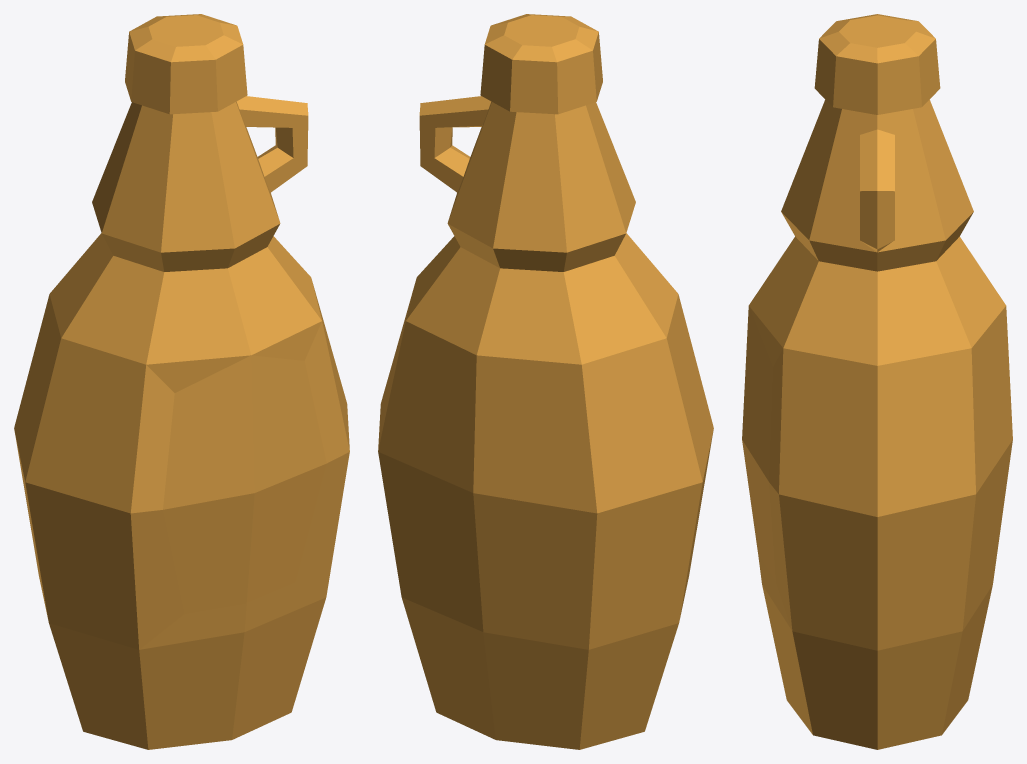
File: jar-syrup.fbx
3 views of the same model, side by side, from view 1: azimuth 30°, elevation 25°; view 2: azimuth 150°, elevation 25°; view 3: azimuth 270°, elevation 25° (orthographic).
Parts seen in each view (by area): view 1: jar-syrup; view 2: jar-syrup; view 3: jar-syrup.
Part boxes in pixels (left/top/right/bottom): jar-syrup: left=14, top=14, right=349, bottom=749; jar-syrup: left=378, top=14, right=713, bottom=749; jar-syrup: left=742, top=14, right=1012, bottom=749.
Size of the model in its own units: 0.1062 by 0.2155 by 0.0782.
